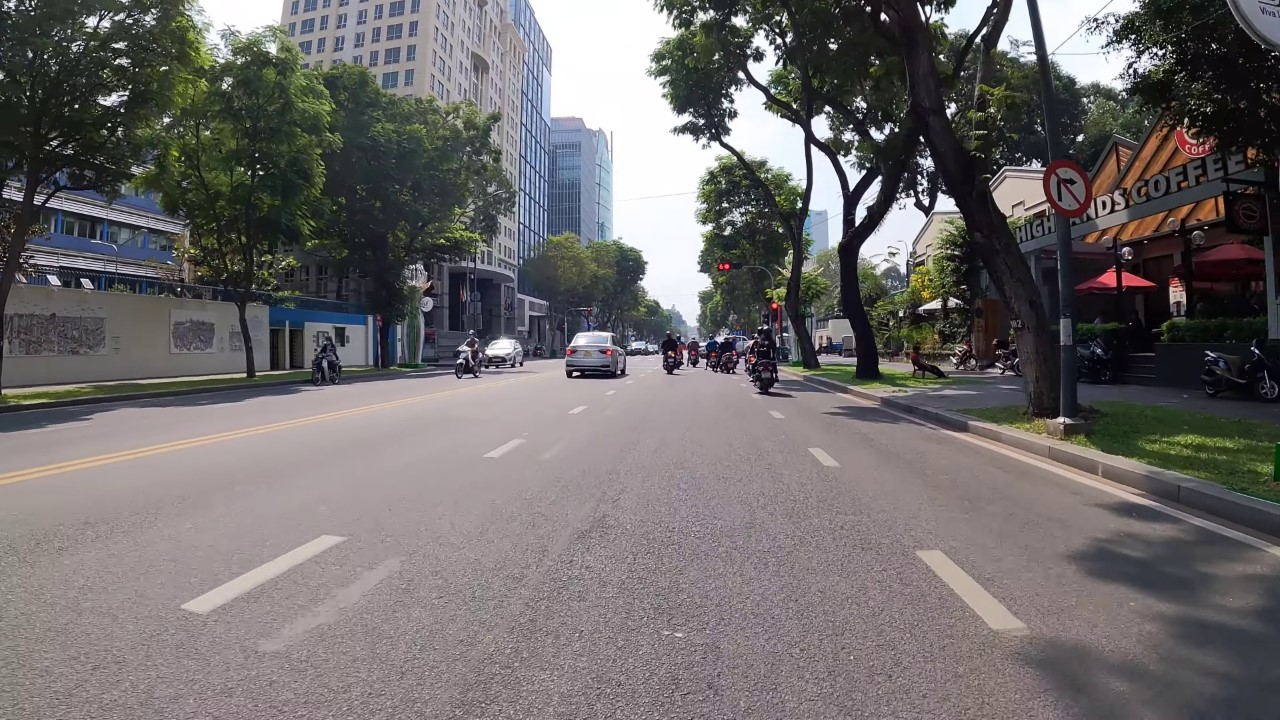cam_re_phai: (1039, 155, 1095, 219)
